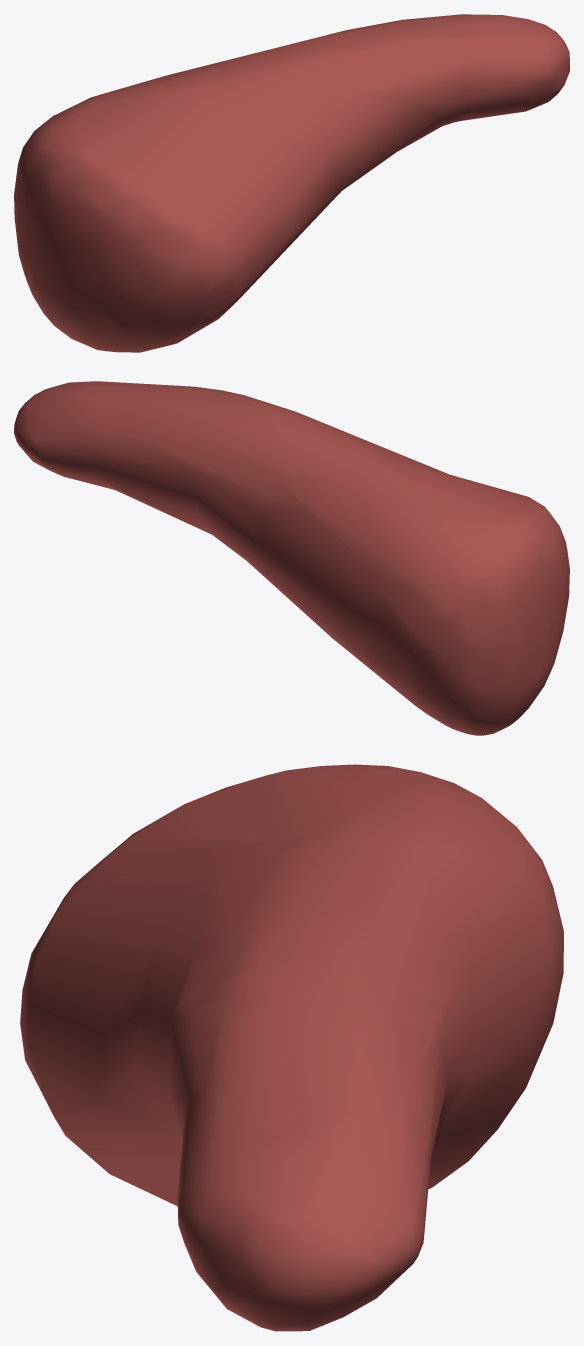
File: FMA73461.glb
The picture shows the model from 3 angles, top to bottom: view 1: azimuth 30°, elevation 25°; view 2: azimuth 150°, elevation 25°; view 3: azimuth 270°, elevation 25°; orthographic projection. The views are drawn at different scales.
Visible parts, largest first — view 1: FMA73461; view 2: FMA73461; view 3: FMA73461.
Part boxes in pixels (x1,y1,x2,y2): FMA73461: (14, 14, 569, 352); FMA73461: (14, 381, 569, 735); FMA73461: (20, 764, 563, 1331).
Bounding box in the file's own units: 0.0143 × 0.00653 × 0.00646.
